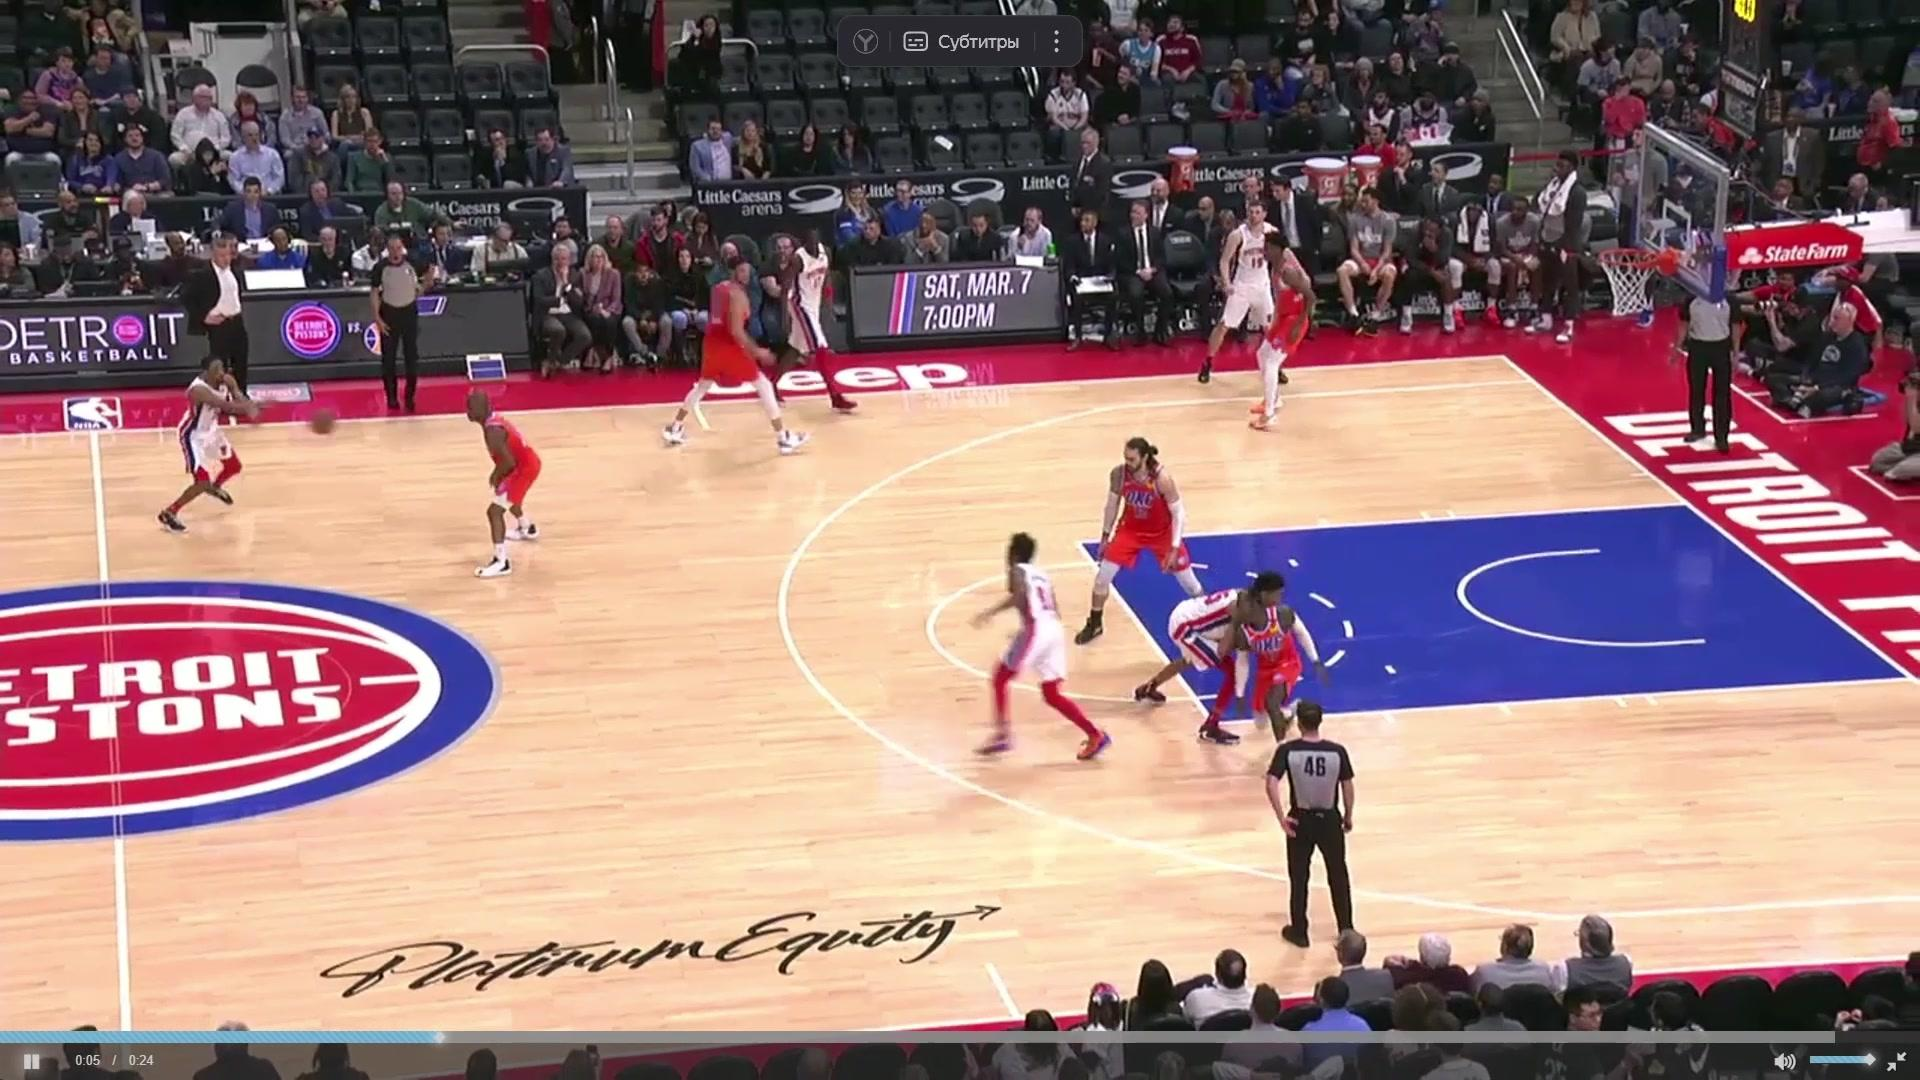foul: (1141, 568, 1361, 744)
